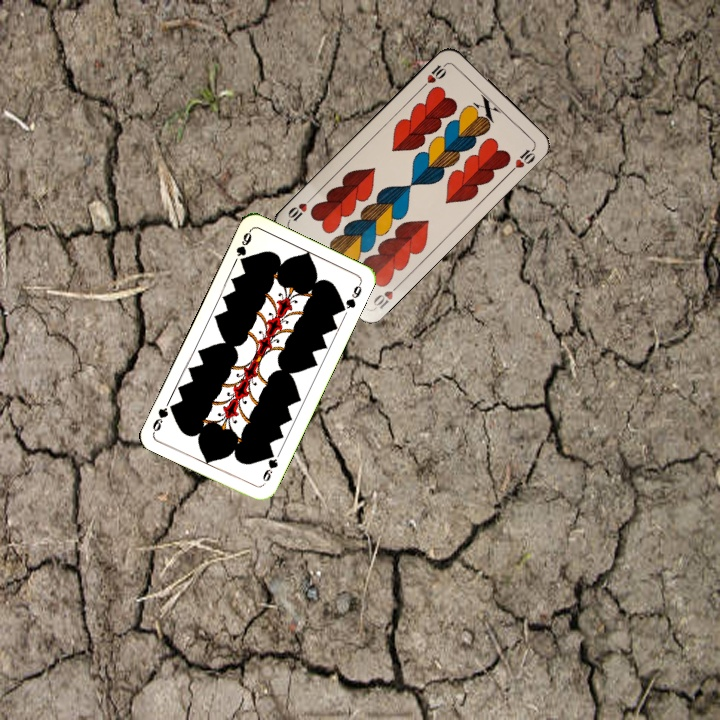G9: (232, 226, 254, 267), (258, 448, 280, 487)
H10: (369, 279, 404, 311), (418, 59, 451, 91)
